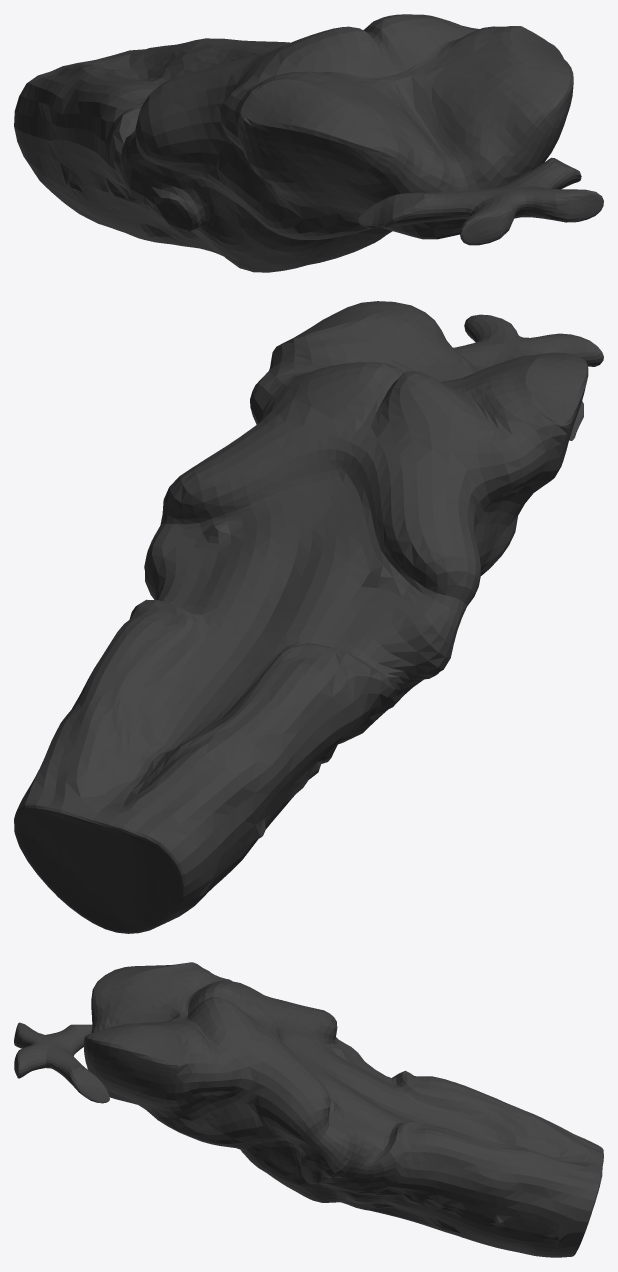
The model's file is Brainstem_LO.glb.
The picture shows the model from 3 angles, top to bottom: view 1: azimuth 30°, elevation 25°; view 2: azimuth 150°, elevation 25°; view 3: azimuth 270°, elevation 25°; orthographic projection. The views are drawn at different scales.
Visible parts, largest first — view 1: Brainstem_LO; view 2: Brainstem_LO; view 3: Brainstem_LO.
Boxes of the visible parts, x1,y1,x2,y2 form: Brainstem_LO: (14, 14, 603, 272); Brainstem_LO: (14, 301, 603, 933); Brainstem_LO: (14, 962, 603, 1257).
Size of the model in its own units: 0.013 by 0.0148 by 0.0313.
1 material, 1 textured.
